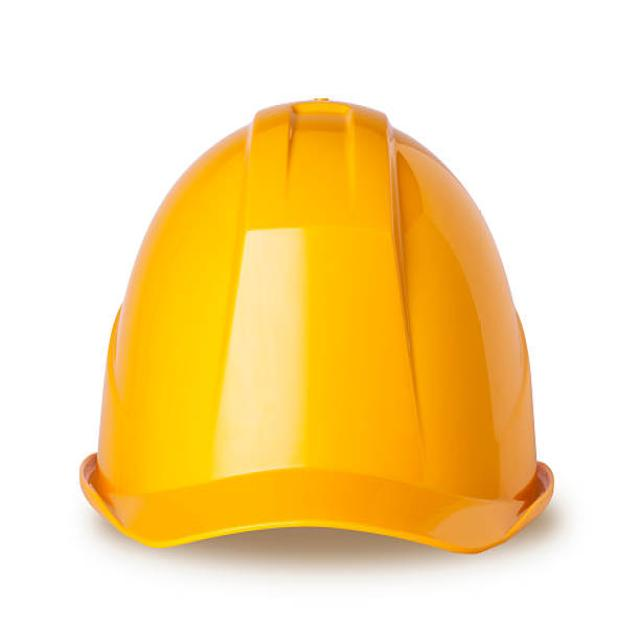helmet: (76, 89, 560, 563)
